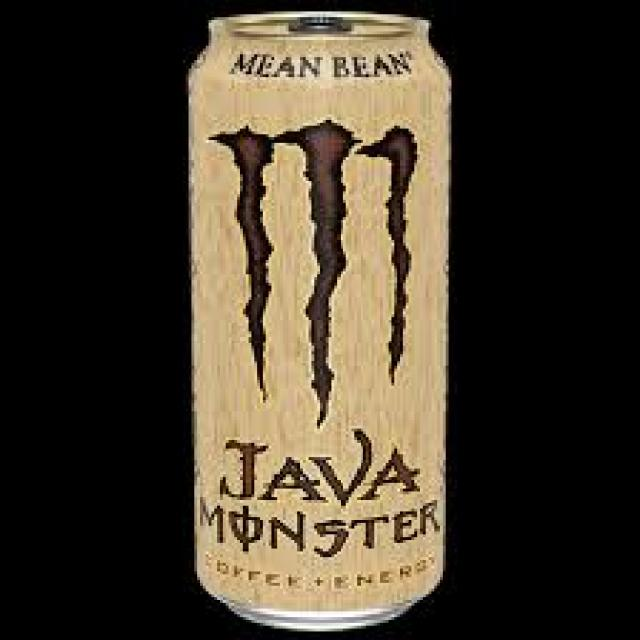Cans: (163, 3, 460, 640)
